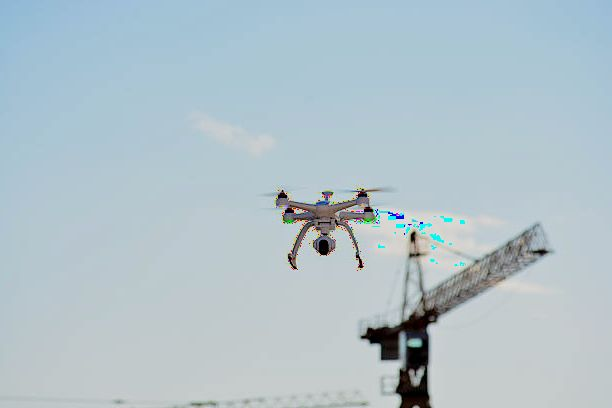Drone: (257, 180, 394, 279)
